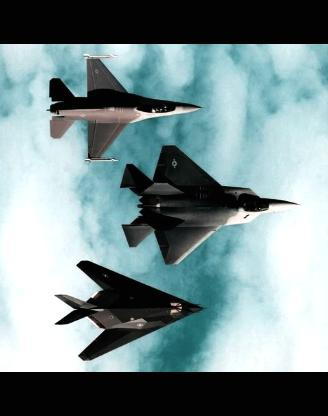E7: (54, 261, 207, 361)
F14: (46, 53, 202, 163)
F18: (119, 144, 299, 264)
